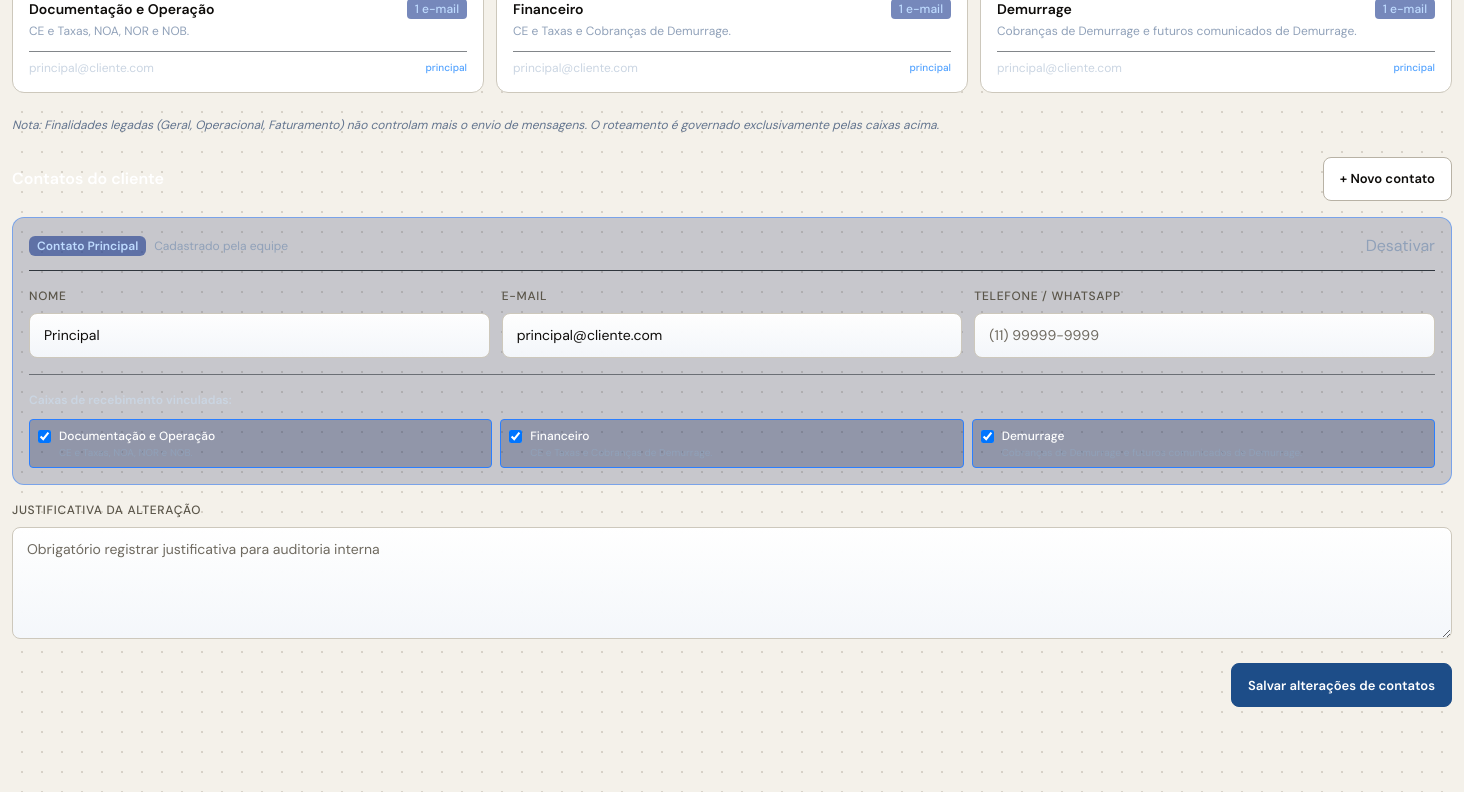
CustomerContactConfiguration (behavior) › duplicate identifies the existing contact (branded message surfaces)
The width and height of the screenshot is (1464, 792).
Expected: the field showing "principal@cliente.com" is shown, [502, 313, 962, 358]
Click the button "+ Novo contato". click: [1387, 179]
box: [1323, 157, 1452, 201]
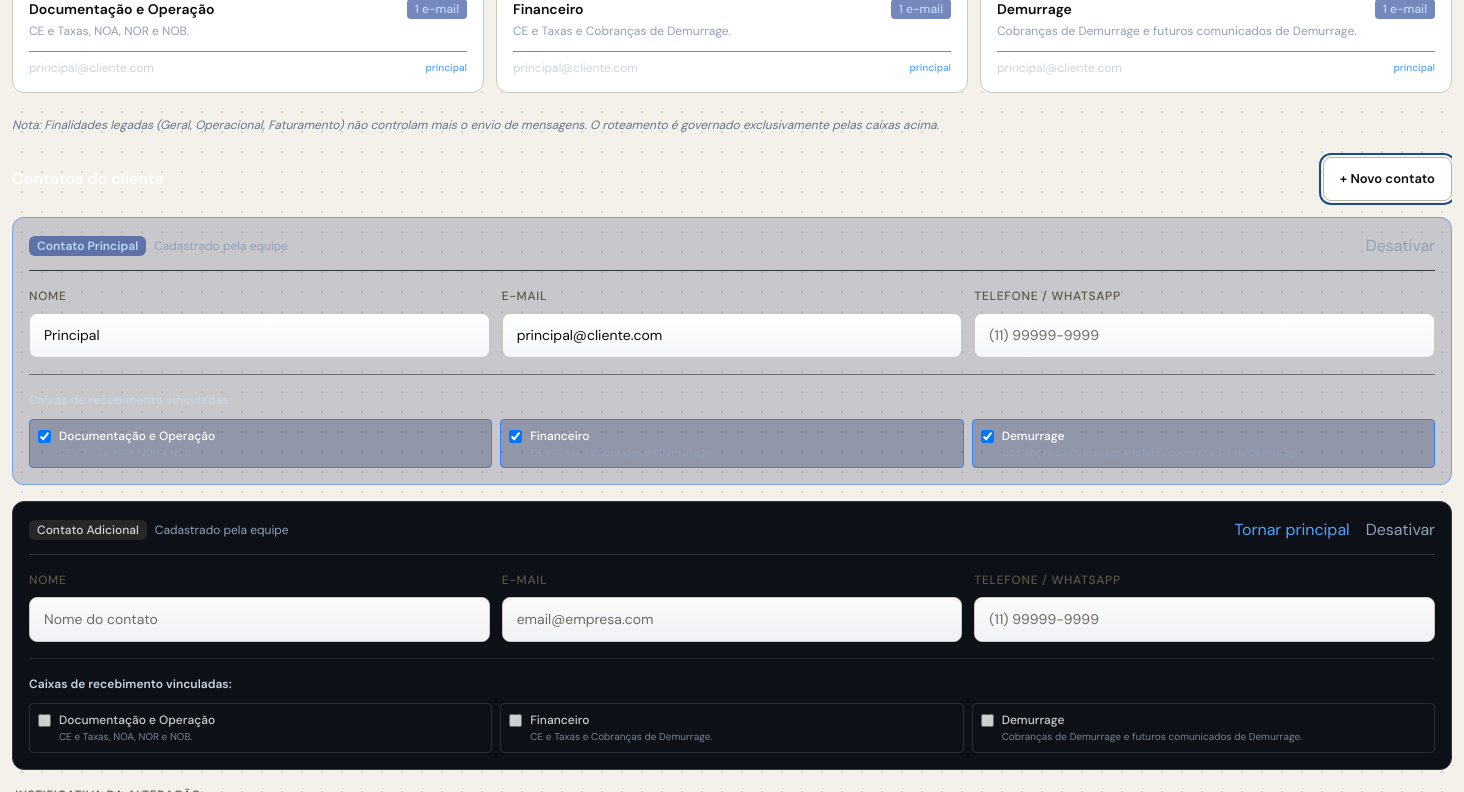
Type "novo@cliente.com" into the 2nd field with placeholder "email@empresa.com". click: [732, 620]
box: [502, 597, 962, 642]
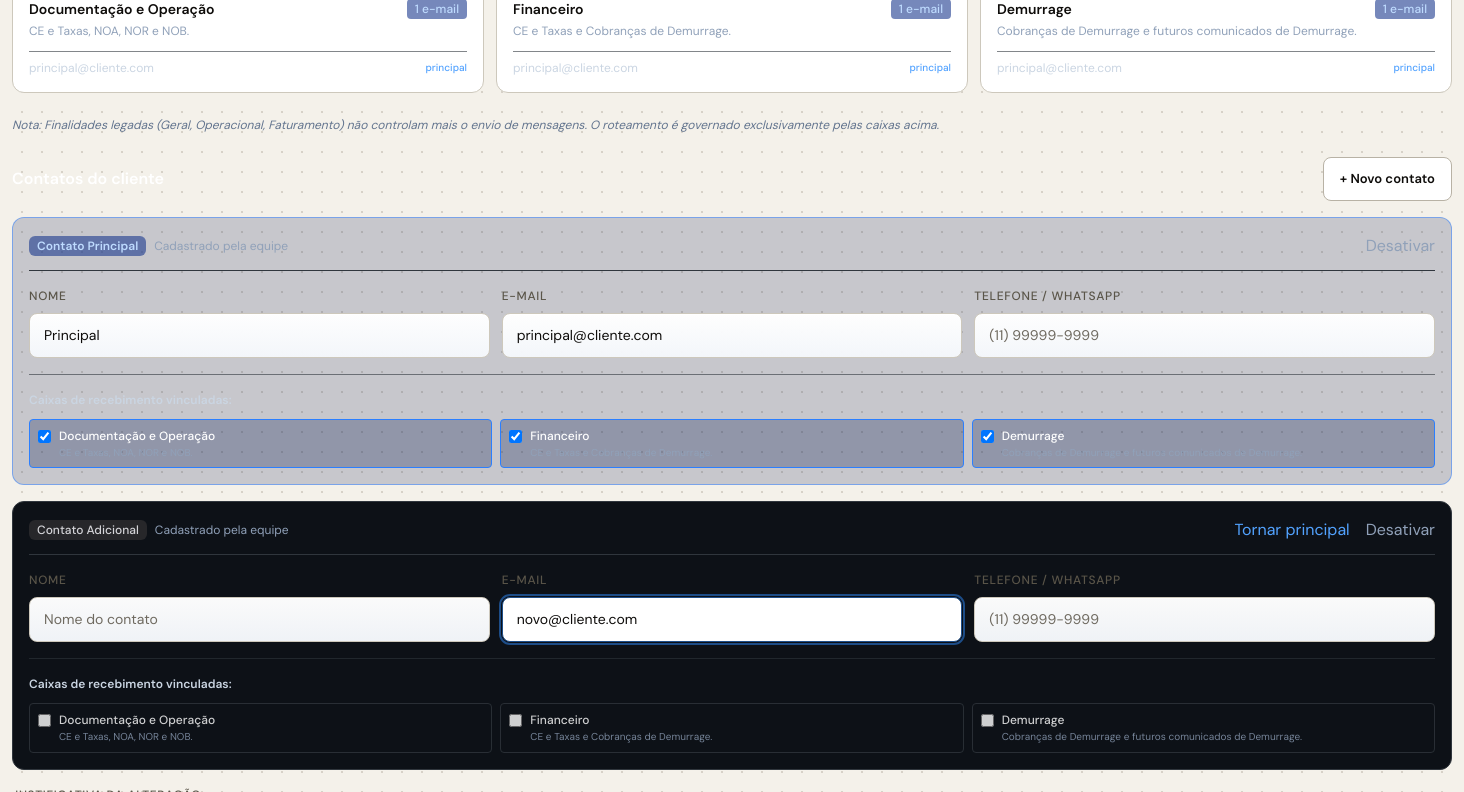
Click the checkbox labelled "Documentação e Operação CE e Taxas, NOA, NOR e NOB." below "Contato Adicional". click: [44, 721]
box: [38, 714, 51, 727]
(page scrolled)
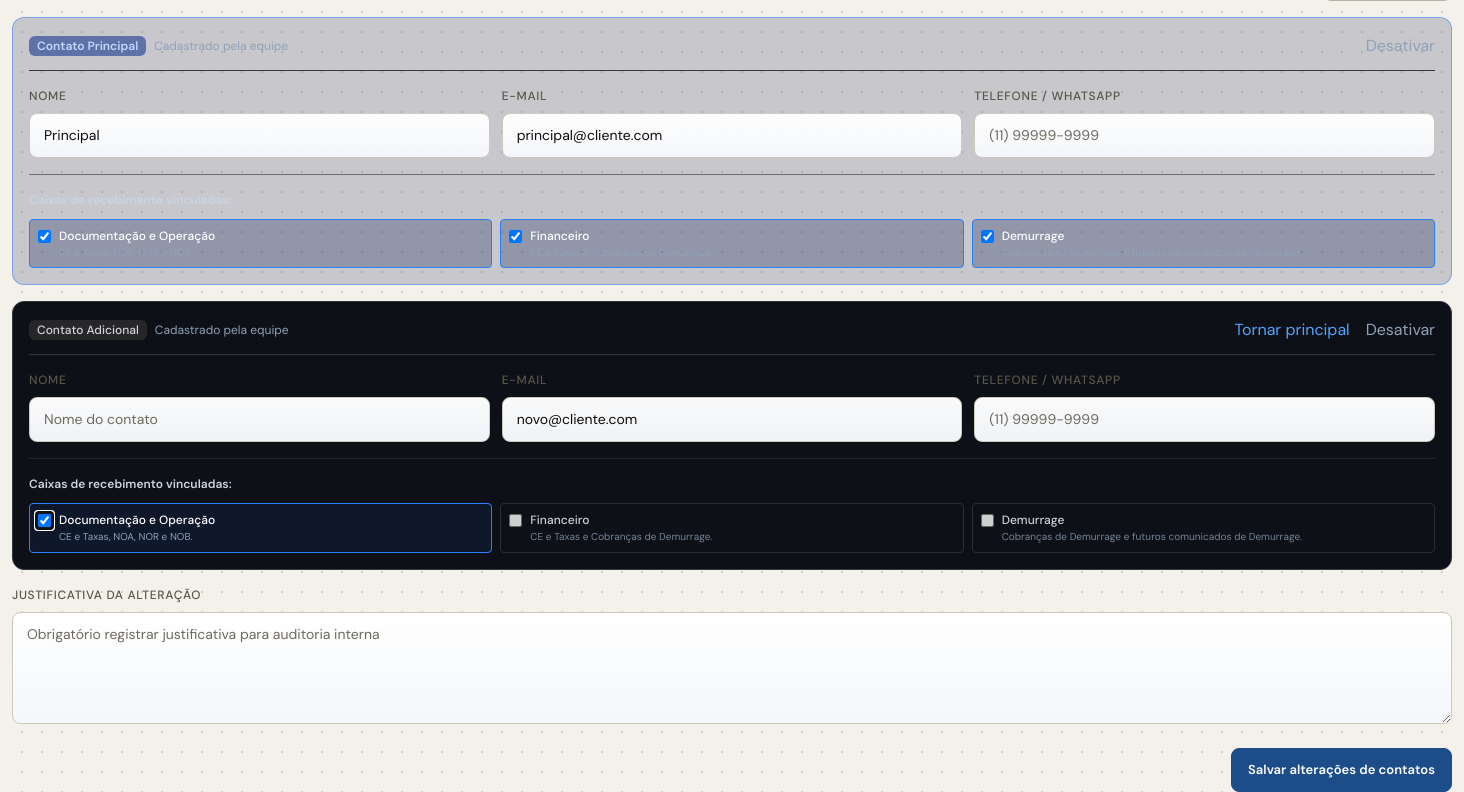
Click the button "Salvar alterações de contatos". click: [1342, 770]
box: [1231, 748, 1452, 791]
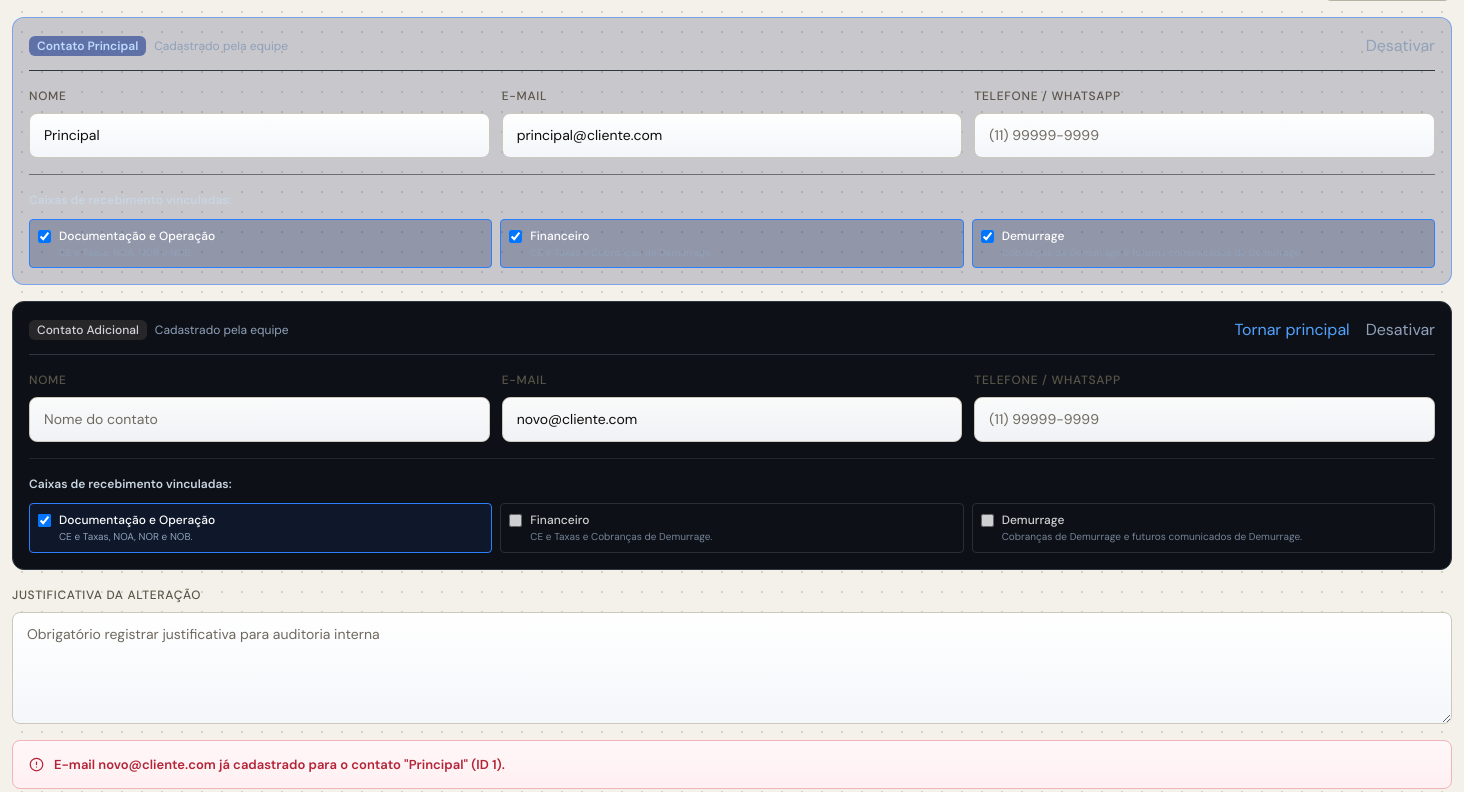
Expected: the message shows "já cadastrado para o contato", [54, 756, 505, 773]
Expected: the message shows "ID 1", [54, 756, 505, 773]
